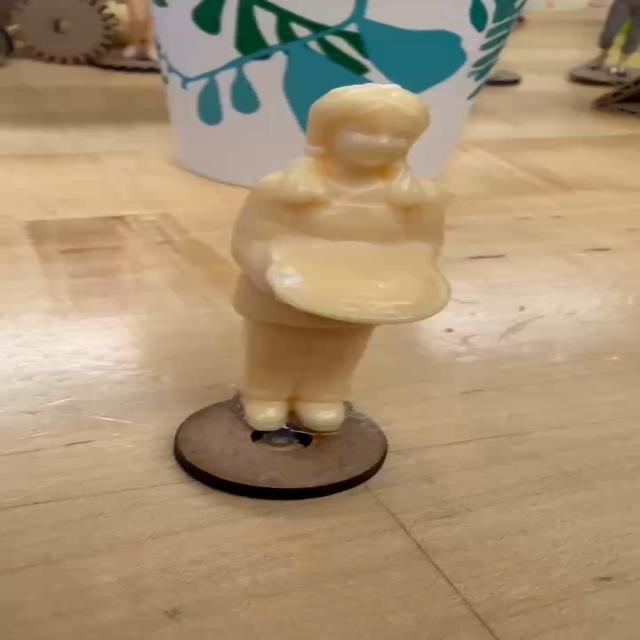Unauthorized: (156, 87, 640, 505)
